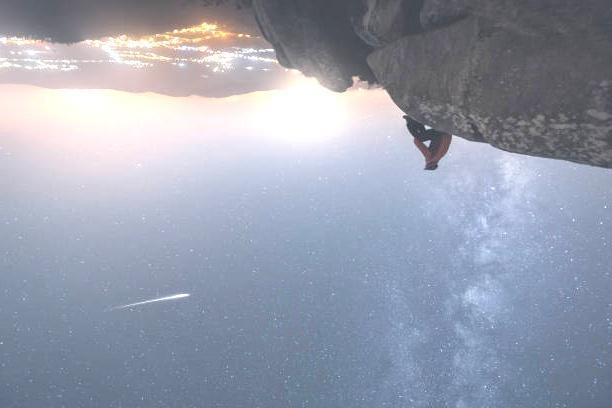meteorite: (102, 284, 207, 318)
